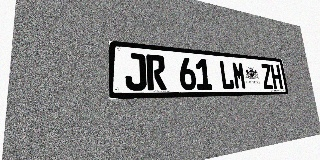1: (195, 58, 212, 90)
6: (178, 57, 197, 90)
H: (270, 64, 283, 89)
J: (125, 52, 147, 91)
L: (219, 60, 235, 90)
M: (232, 61, 247, 90)
R: (146, 54, 167, 90)
Z: (260, 64, 274, 89)
